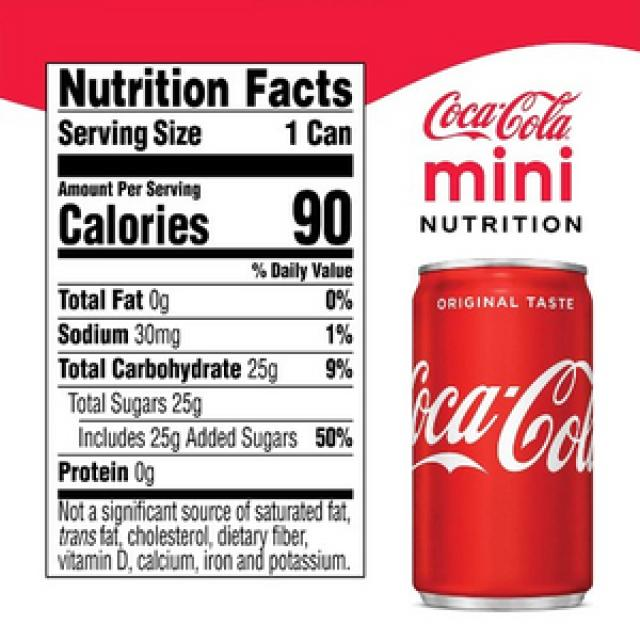cocacola: (409, 259, 600, 614)
